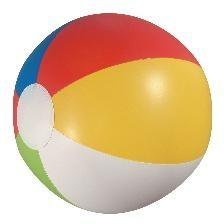Sports-Ball: (13, 11, 213, 213)
